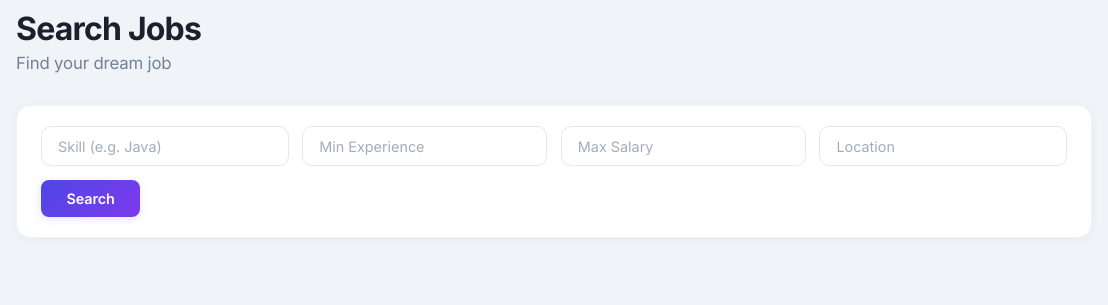
JobSearch › shows error message when search fails
What coordinates should you click on to do the following:
click the button "Search"
I would click on:
 (91, 199)
Its box is [41,180,140,218].
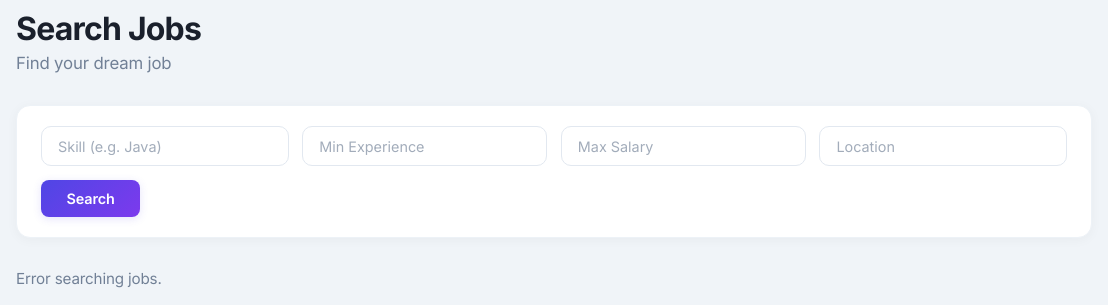
Expected: the text "Error searching jobs." is shown, [16,270,162,288]
